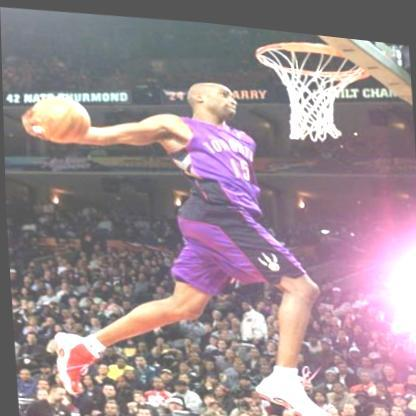basketball: (31, 91, 93, 147)
rim: (255, 29, 370, 142)
